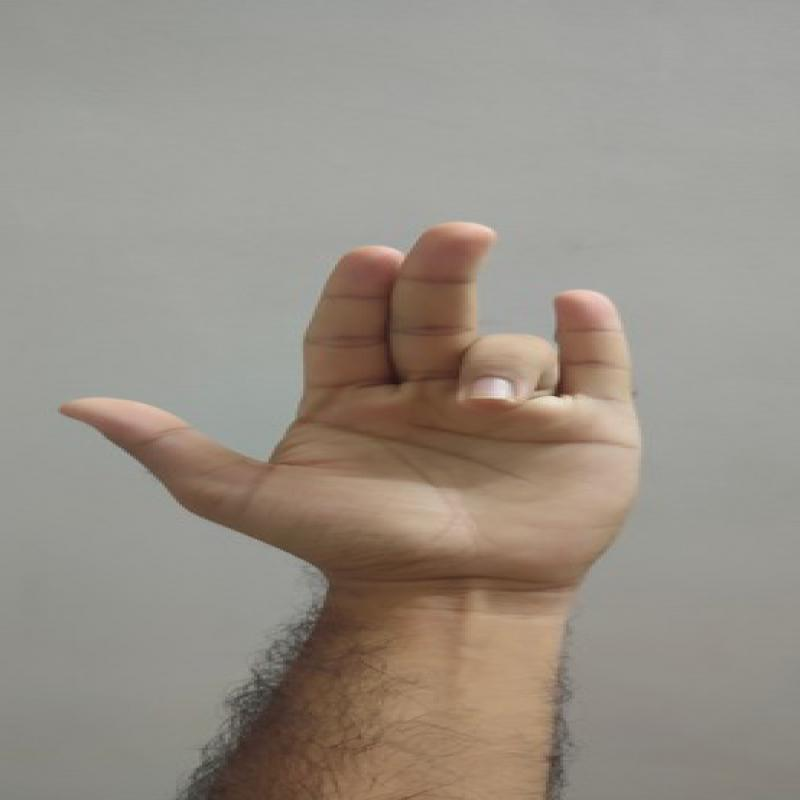Pathaaka: (52, 209, 661, 610)
